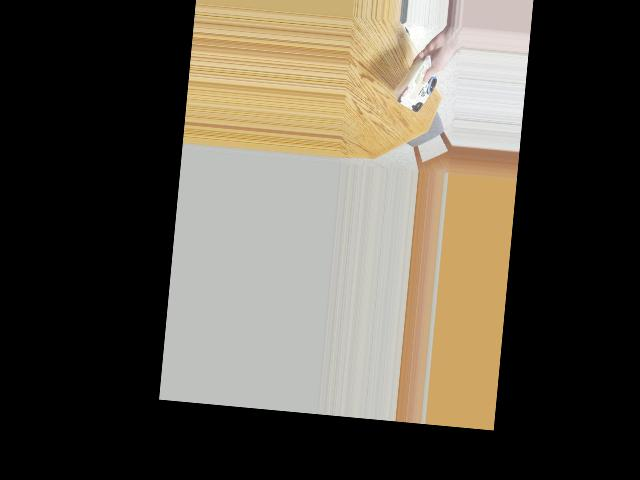cheese: (387, 61, 445, 111)
